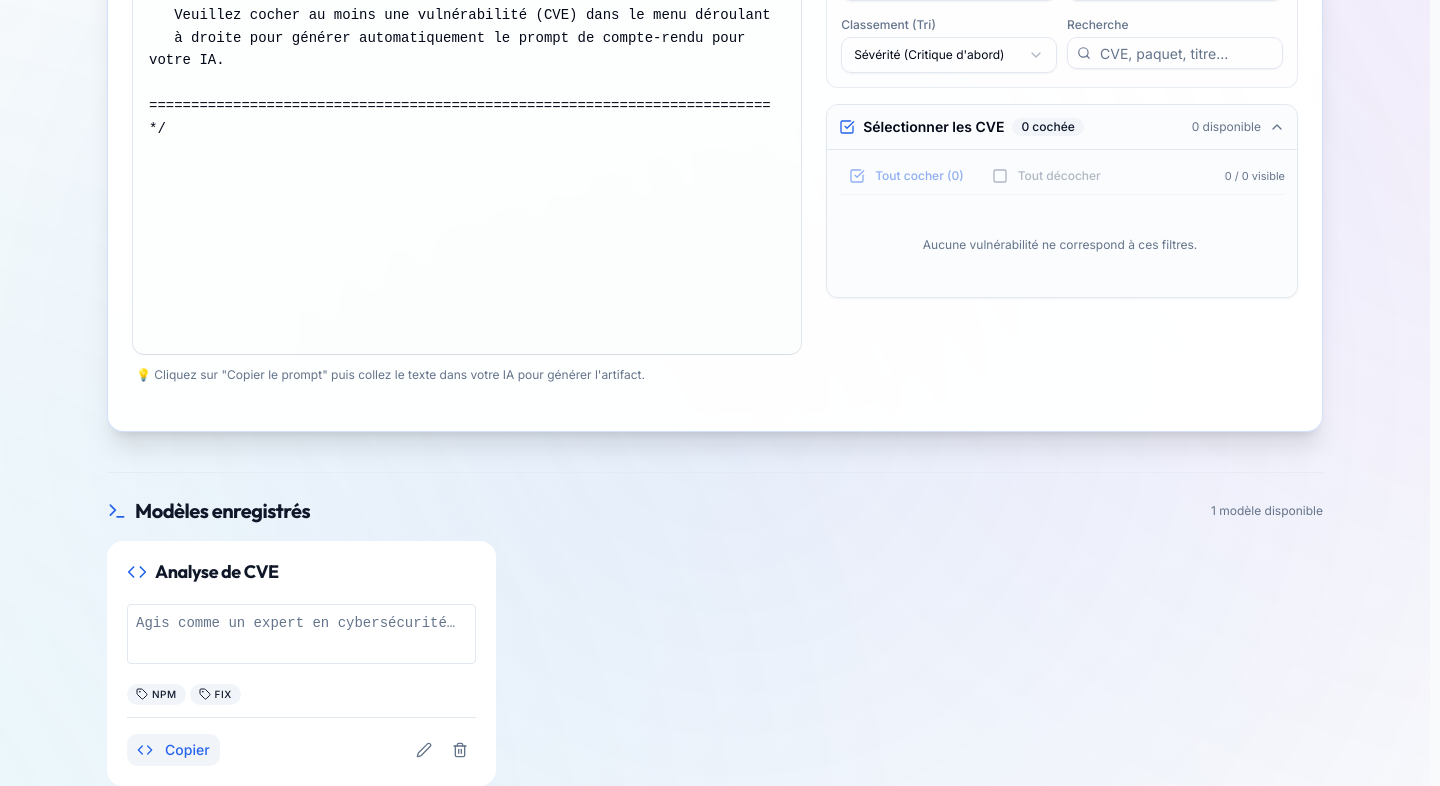
Scenario: PromptsLibrary › supprimer demande confirmation avant d'appeler l'API
The image size is (1440, 786).
(page scrolled)
Expected: the heading "Analyse de CVE" is shown, [155,561,279,584]
Click the button titled "Supprimer". click: (460, 750)
box: [444,734,476,766]
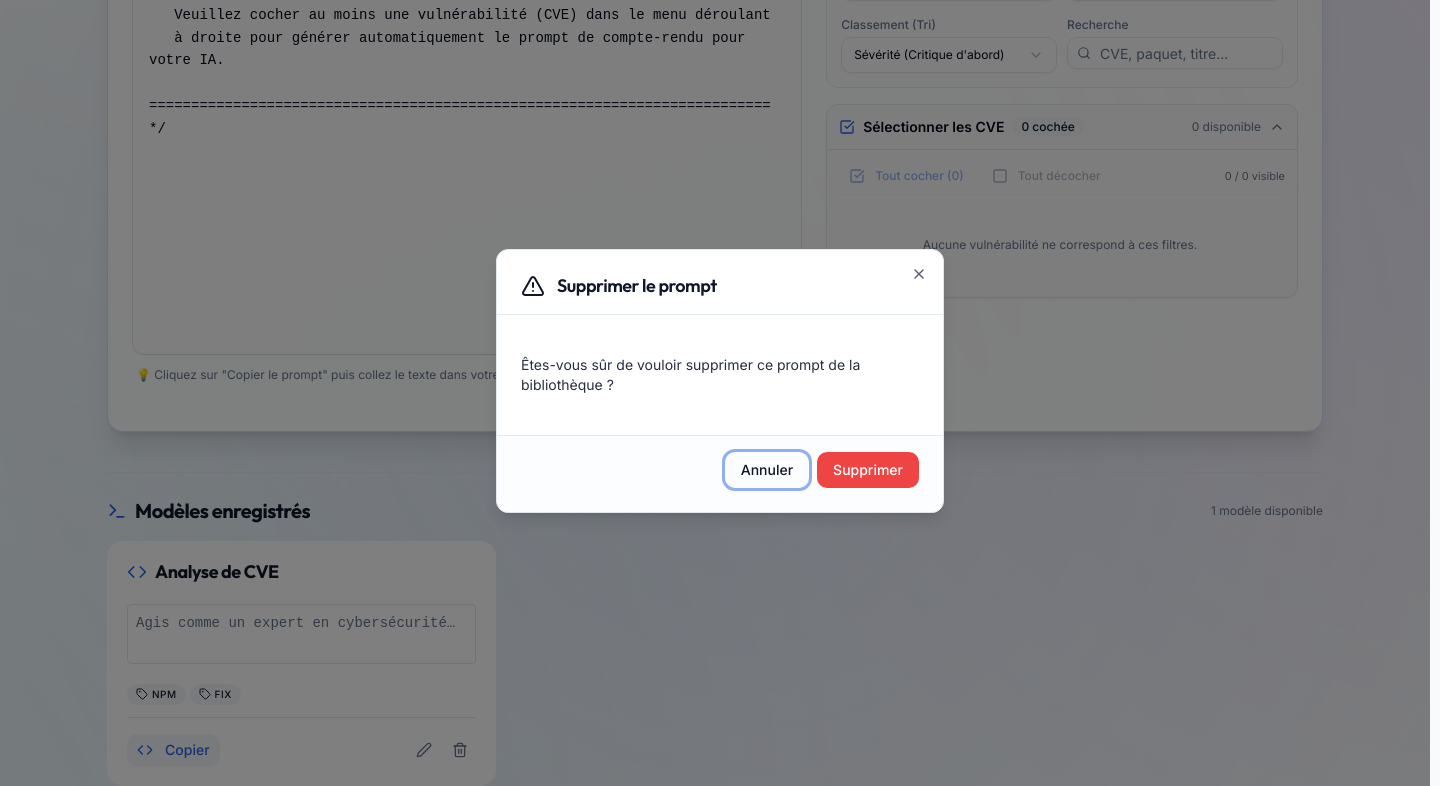
Expected: the heading "Supprimer le prompt" is shown, [521,274,717,298]
